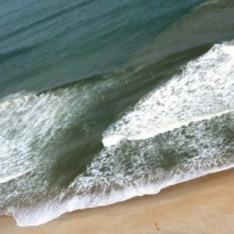rip_current: (37, 71, 160, 195)
